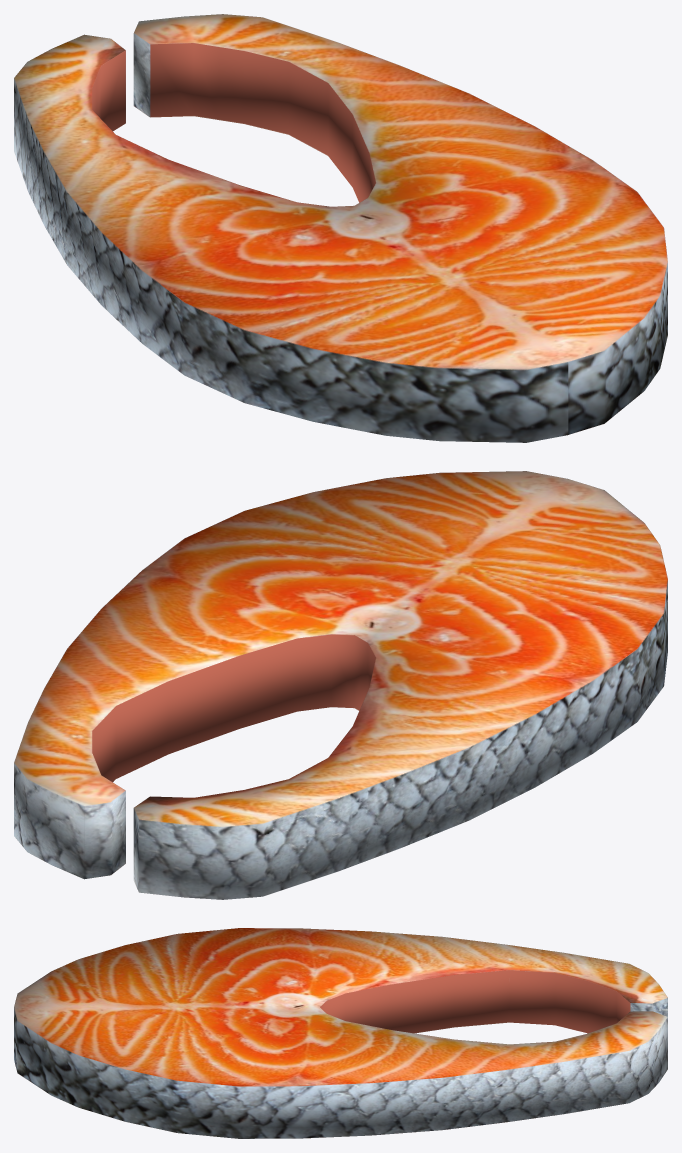
The picture shows the model from 3 angles, top to bottom: view 1: azimuth 30°, elevation 25°; view 2: azimuth 150°, elevation 25°; view 3: azimuth 270°, elevation 25°; orthographic projection. The views are drawn at different scales.
Parts seen in each view (by area): view 1: salmon; view 2: salmon; view 3: salmon.
Part boxes in pixels (x1,y1,x2,y2): salmon: [14, 14, 667, 442]; salmon: [14, 471, 667, 899]; salmon: [14, 928, 667, 1138].
Size of the model in its own units: 2.5 by 0.3852 by 4.36.
1 material, 1 textured.
